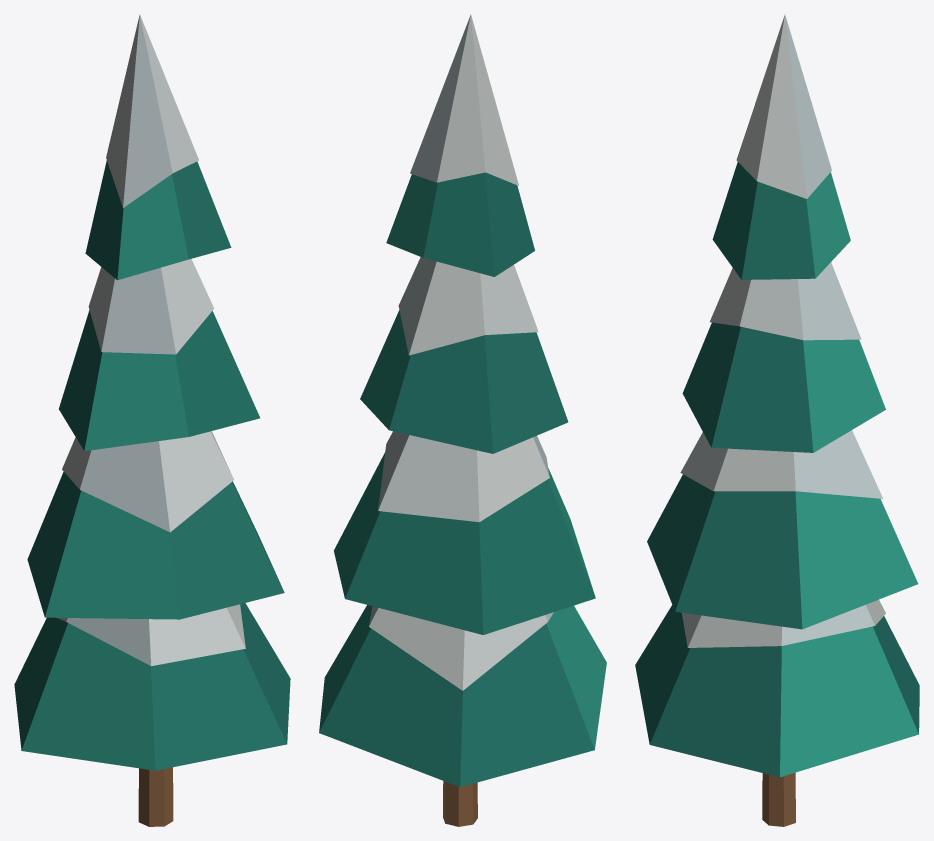
File: fir-b.glb
3 views of the same model, side by side, from view 1: azimuth 30°, elevation 25°; view 2: azimuth 150°, elevation 25°; view 3: azimuth 270°, elevation 25° (orthographic).
Parts seen in each view (by area): view 1: foliage, trunk; view 2: foliage, trunk; view 3: foliage, trunk.
Boxes of the visible parts, x1,y1,x2,y2 form: foliage: (14, 14, 290, 770); trunk: (138, 767, 173, 826); foliage: (319, 14, 606, 787); trunk: (443, 781, 477, 826); foliage: (635, 14, 919, 777); trunk: (762, 772, 795, 826).
Size of the model in its own units: 1.82 by 5.21 by 1.68.
